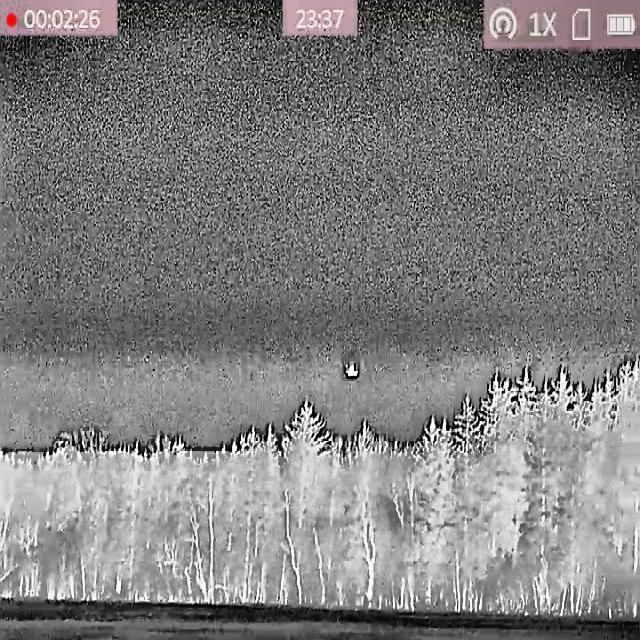drone: (344, 362, 362, 380)
